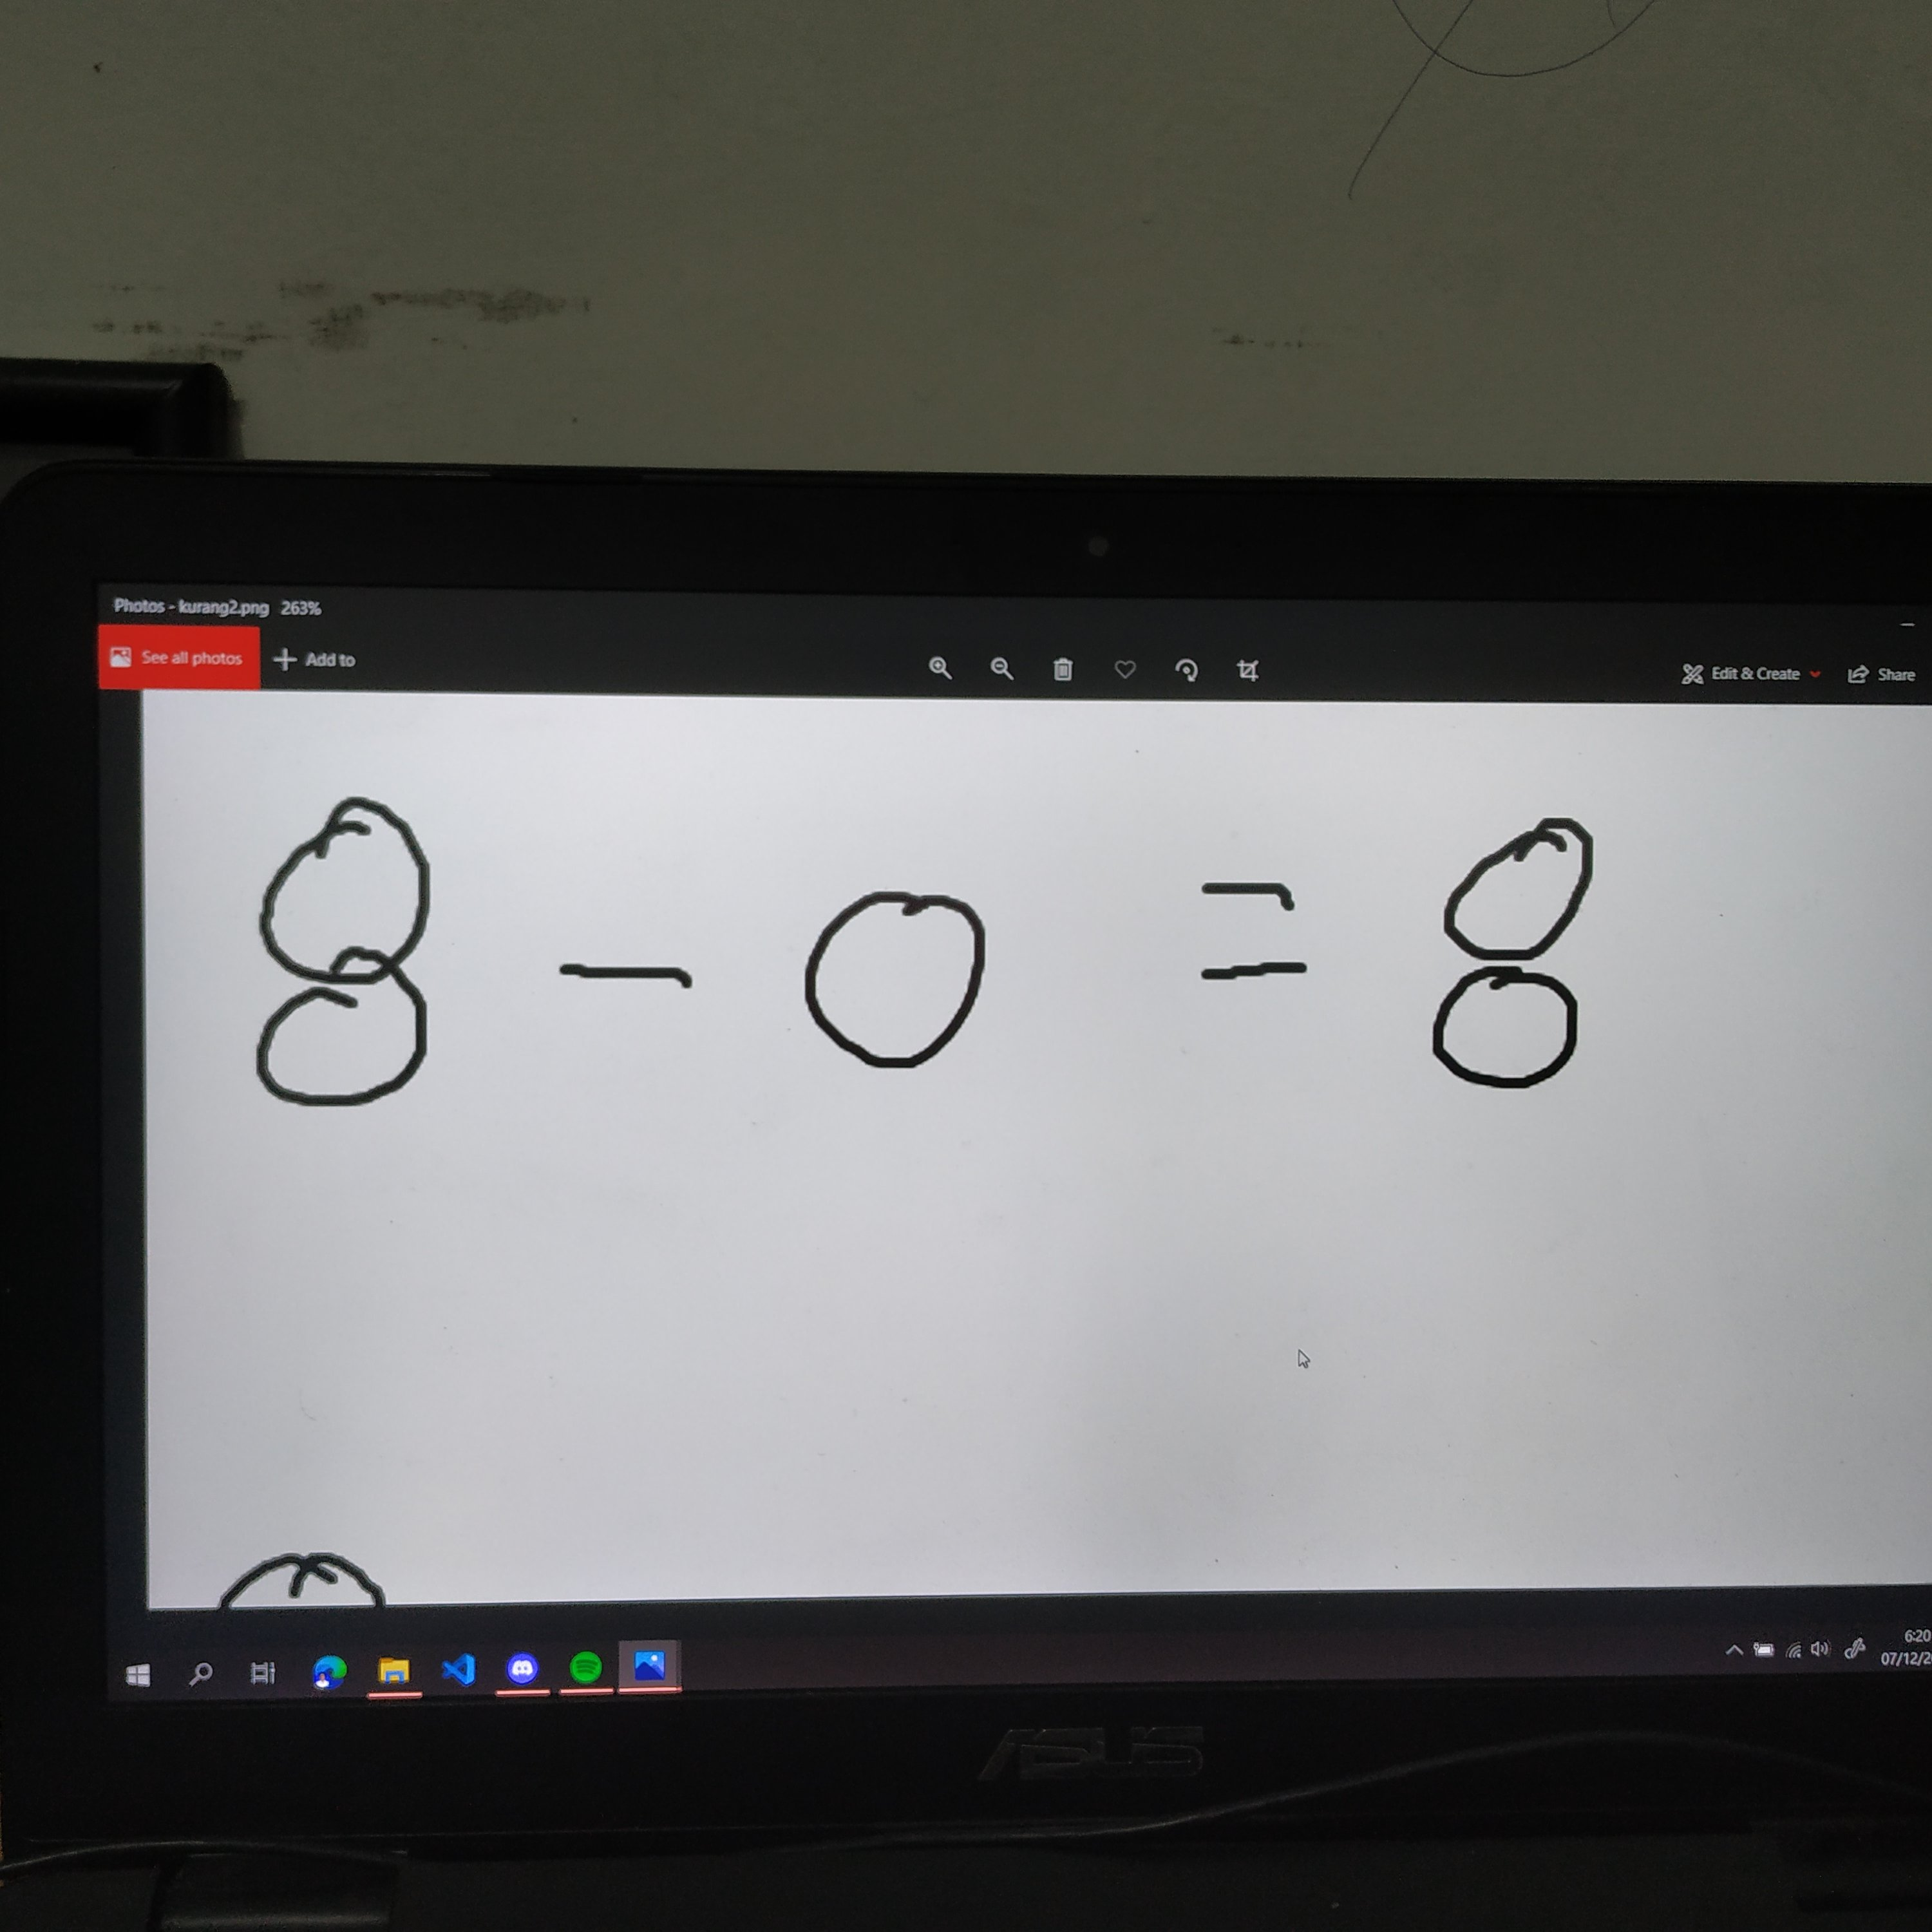equal: (1172, 853, 1330, 1005)
min: (536, 926, 736, 1014)
num0: (802, 866, 1002, 1099)
num8: (196, 766, 480, 1134), (1401, 800, 1642, 1111)
